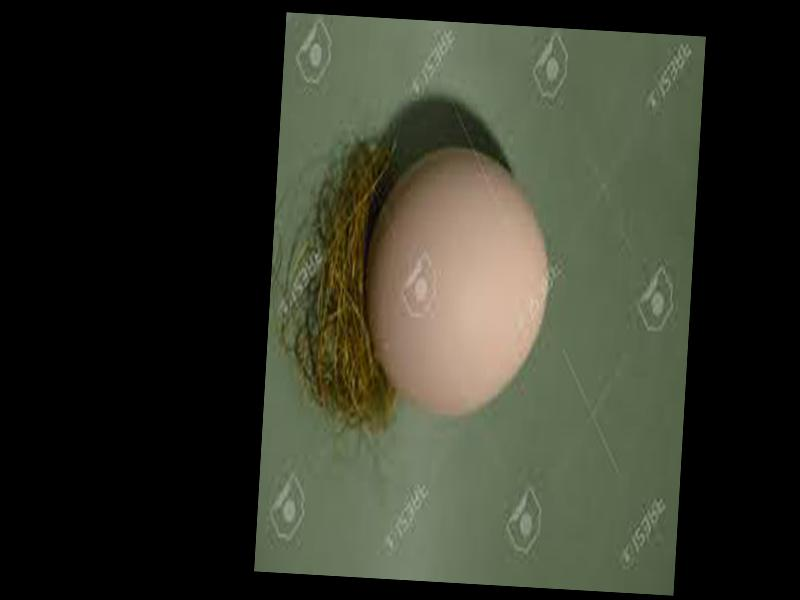Eggs: (361, 143, 556, 419)
